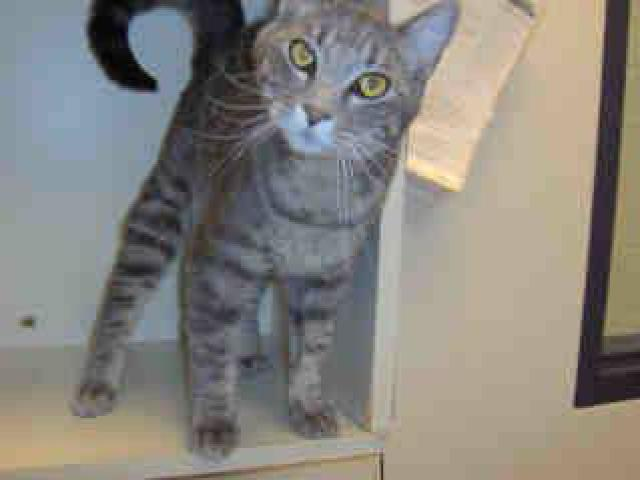cat: (57, 1, 477, 461)
